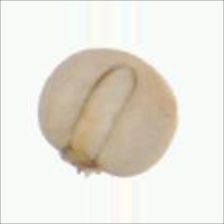L5: (67, 64, 139, 160), (57, 146, 110, 178)
L6: (35, 47, 181, 179)
